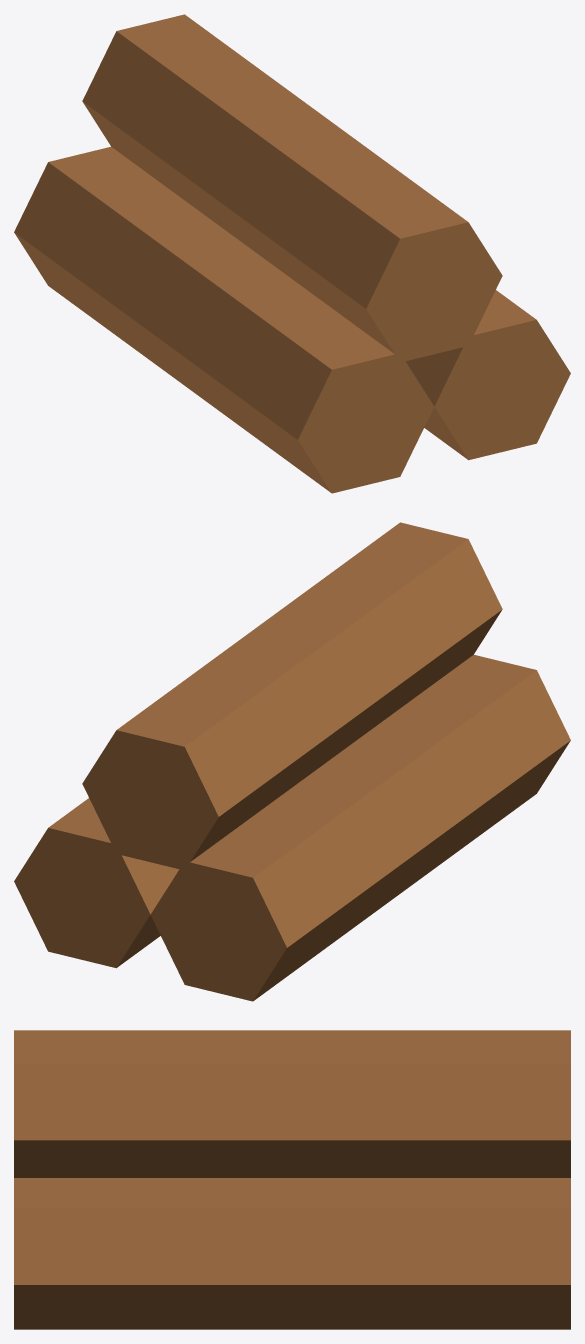
File: logs.glb
The picture shows the model from 3 angles, top to bottom: view 1: azimuth 30°, elevation 25°; view 2: azimuth 150°, elevation 25°; view 3: azimuth 270°, elevation 25°; orthographic projection.
Visible parts, largest first — view 1: Model; view 2: Model; view 3: Model.
Part boxes in pixels (x1=…): Model: x1=14, y1=14, x2=570, y2=493; Model: x1=14, y1=522, x2=570, y2=1001; Model: x1=14, y1=1030, x2=570, y2=1329.
Bounding box in the file's own units: 0.3 × 0.2499 × 0.54.
